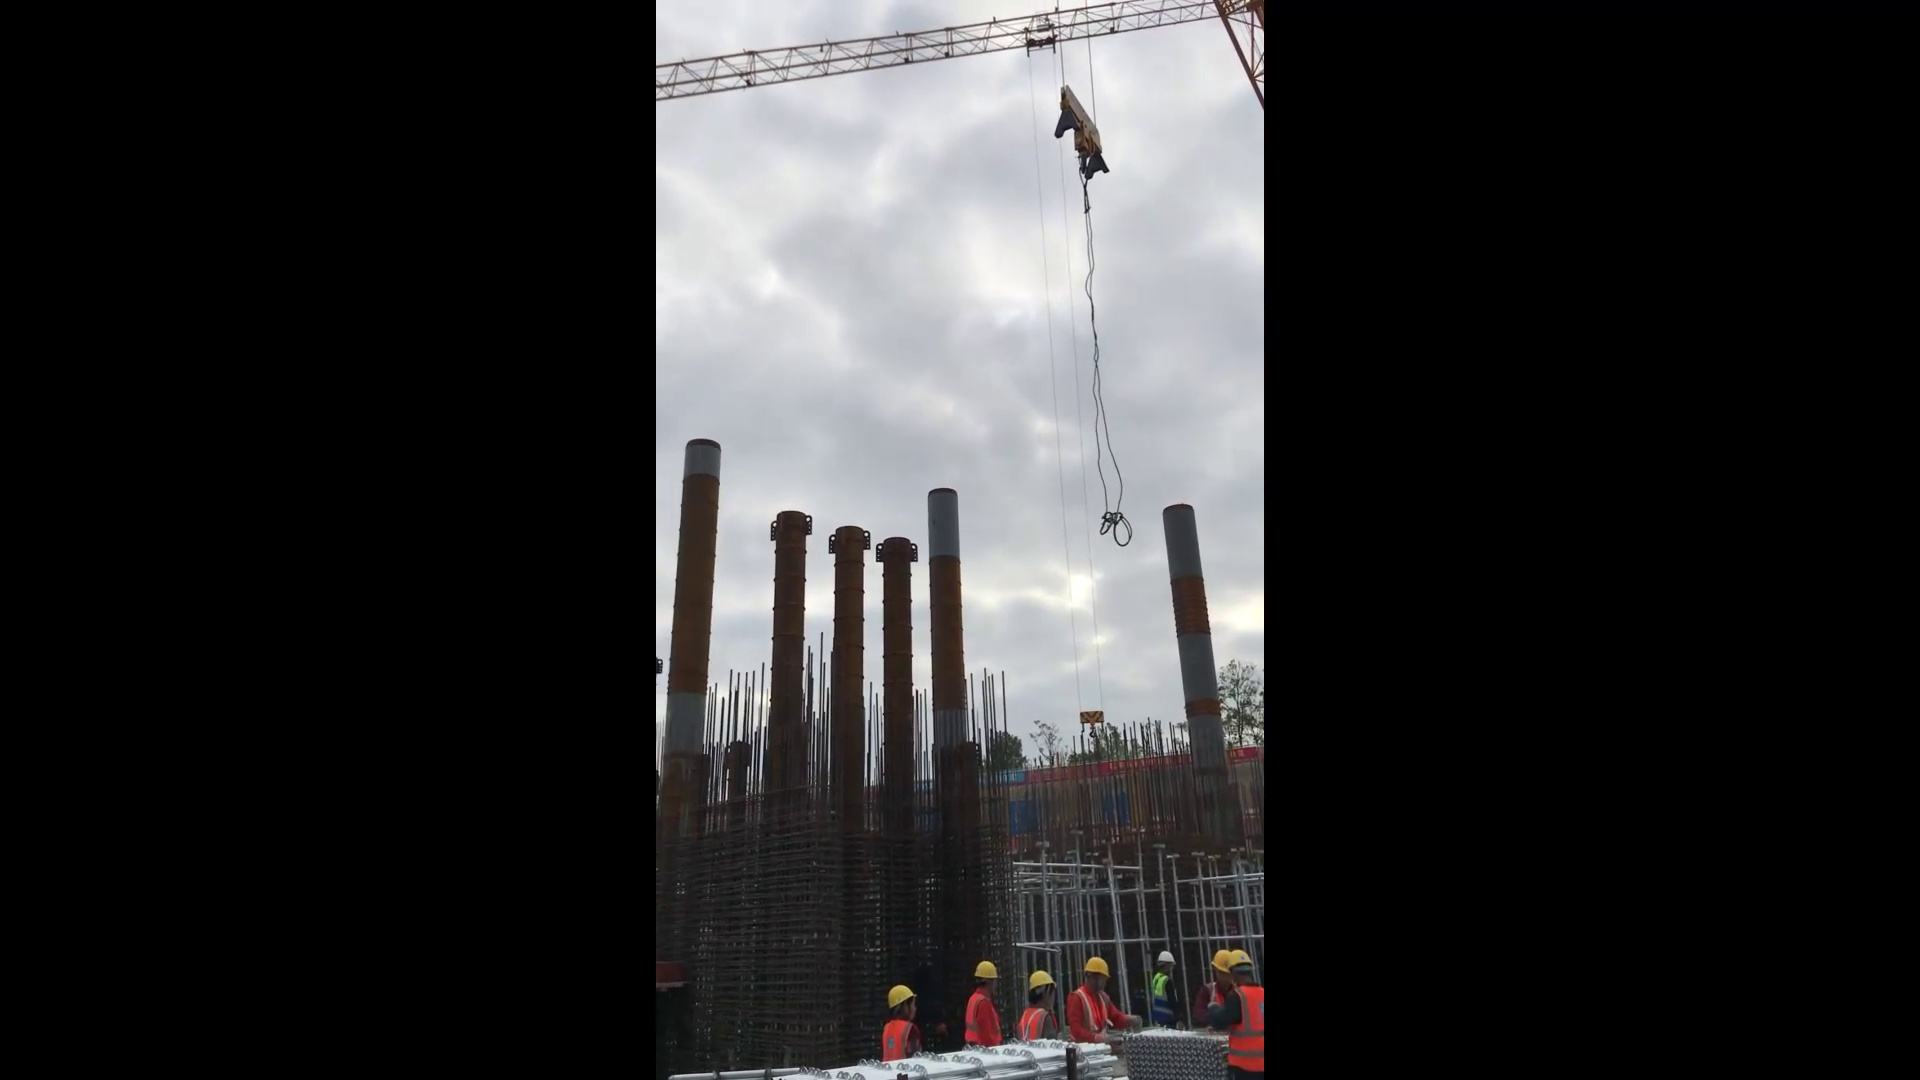helmet: (1027, 968, 1059, 994), (886, 984, 918, 1008), (971, 959, 1001, 981), (1084, 956, 1112, 980), (1213, 949, 1232, 976), (1231, 947, 1252, 969), (1157, 951, 1179, 968)
person: (1067, 955, 1143, 1042), (1212, 950, 1265, 1075), (962, 958, 1006, 1050), (877, 982, 925, 1060), (1019, 969, 1061, 1040), (1151, 948, 1187, 1029), (1200, 948, 1232, 1034)
vest: (1229, 981, 1266, 1071), (1071, 985, 1118, 1039), (964, 990, 998, 1044), (1150, 972, 1180, 1022), (882, 1019, 916, 1059), (1019, 1008, 1059, 1037)
